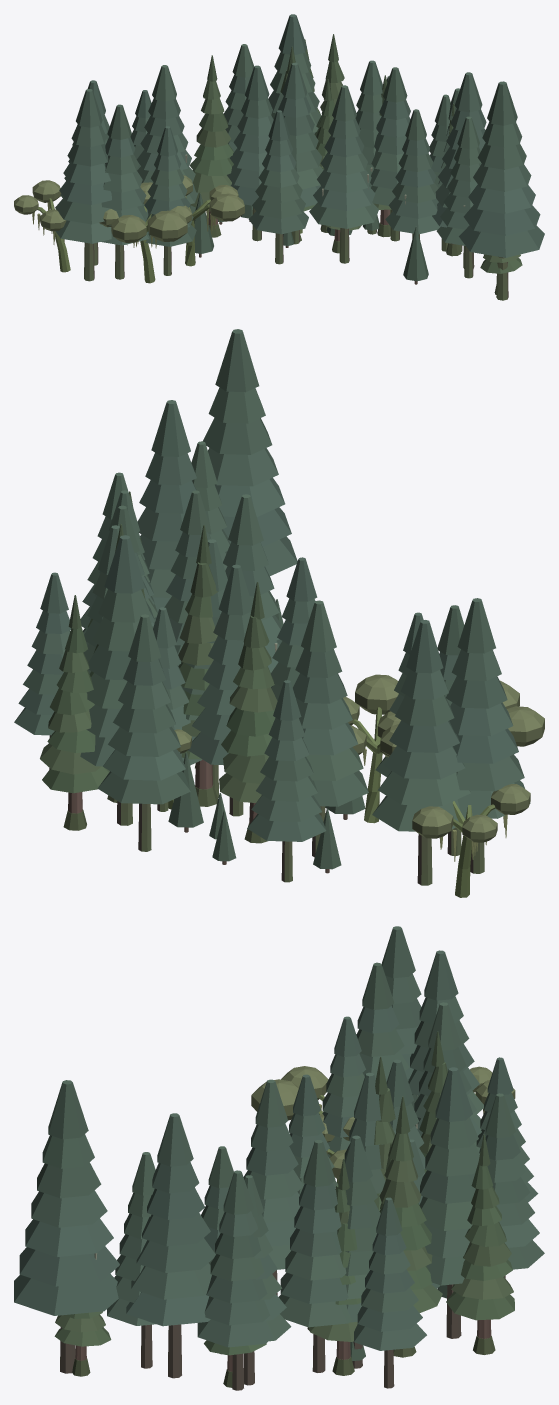
File: Mist_Forest_2_3.fbx
The picture shows the model from 3 angles, top to bottom: view 1: azimuth 30°, elevation 25°; view 2: azimuth 150°, elevation 25°; view 3: azimuth 270°, elevation 25°; orthographic projection. The views are drawn at different scales.
Visible parts, largest first — view 1: Mist_Forest_2_3; view 2: Mist_Forest_2_3; view 3: Mist_Forest_2_3.
Part boxes in pixels (box(x1,y1,x2,y2)): Mist_Forest_2_3: box(14, 14, 544, 300); Mist_Forest_2_3: box(14, 329, 544, 897); Mist_Forest_2_3: box(14, 926, 544, 1390).
Size of the model in its own units: 44.56 by 24.97 by 40.18.
